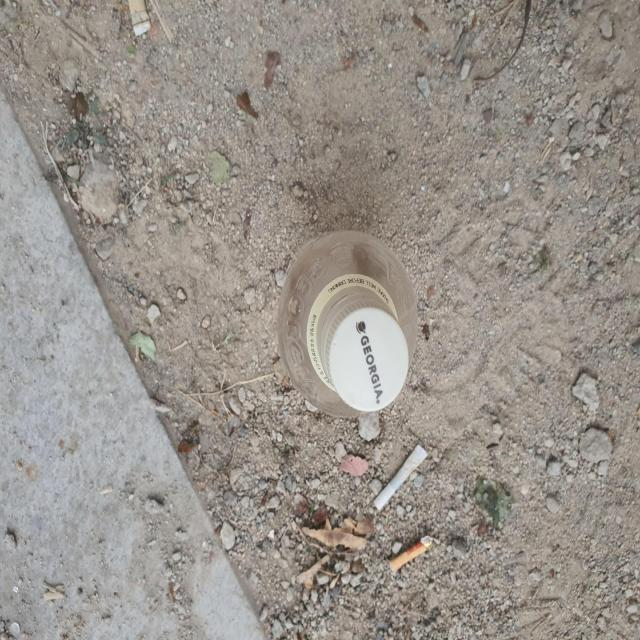plastic: (278, 231, 418, 418)
